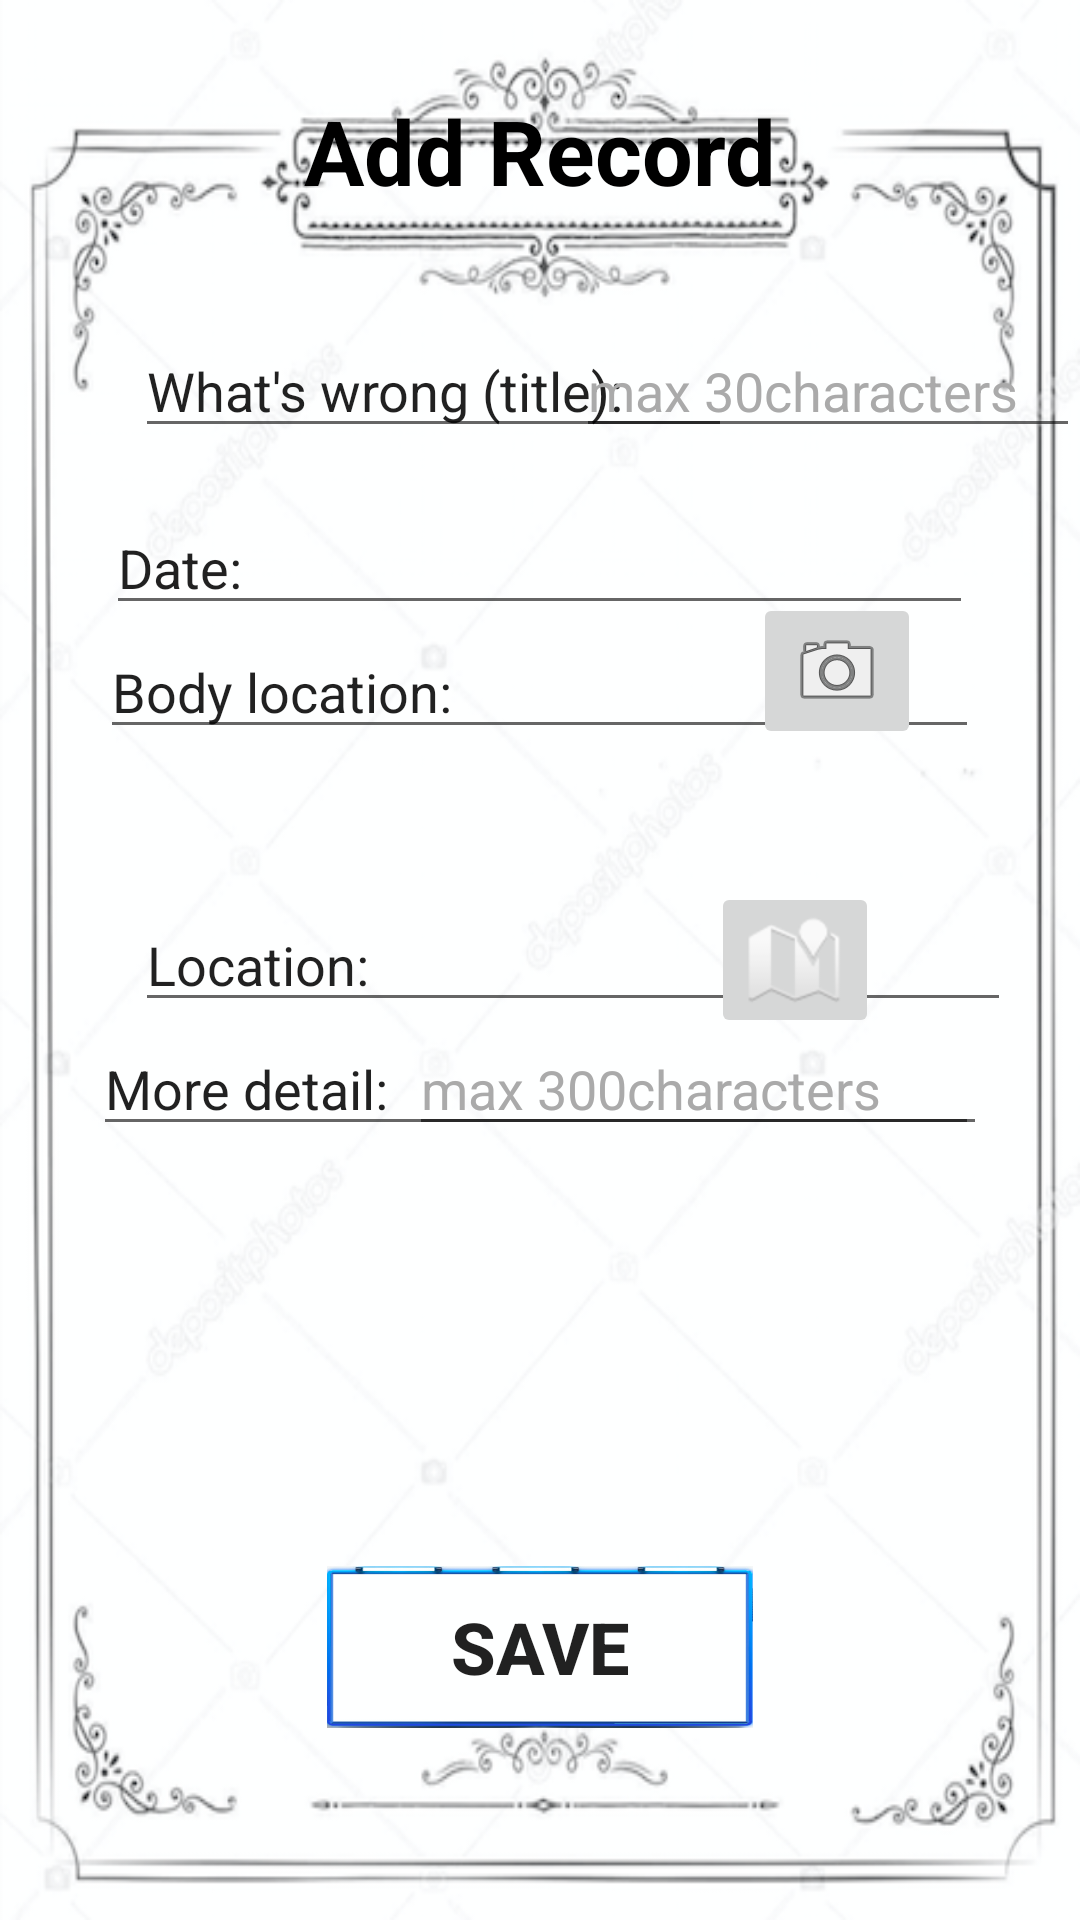

Named icons in this screenshot (1080w x 1920h) and their centers, (x,y):
camera: (837,664)
map: (795,960)
